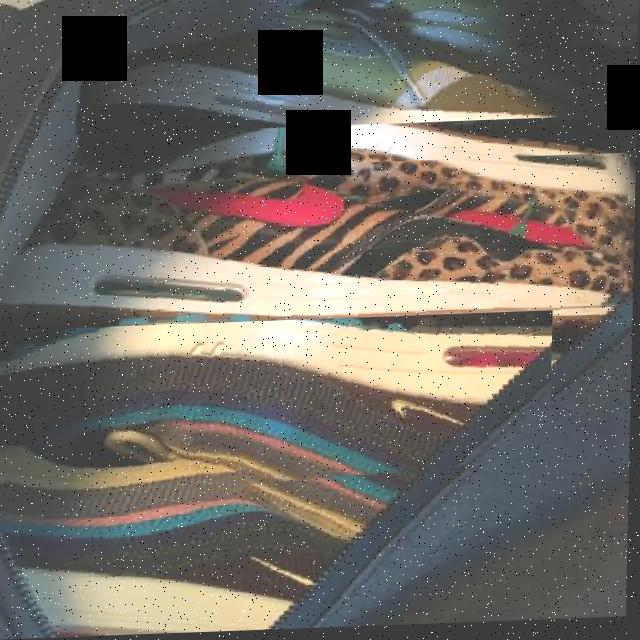shoe: (0, 158, 632, 339), (0, 315, 554, 505), (76, 3, 639, 136)
